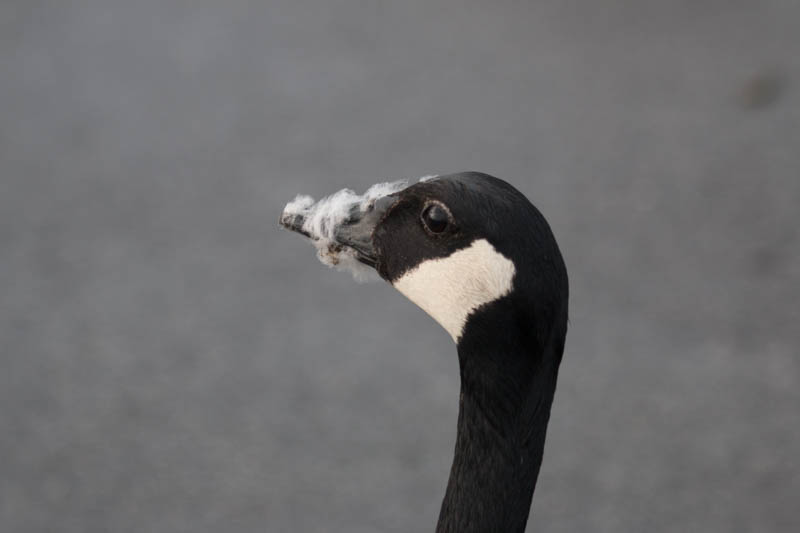goose-head: (276, 170, 568, 354)
